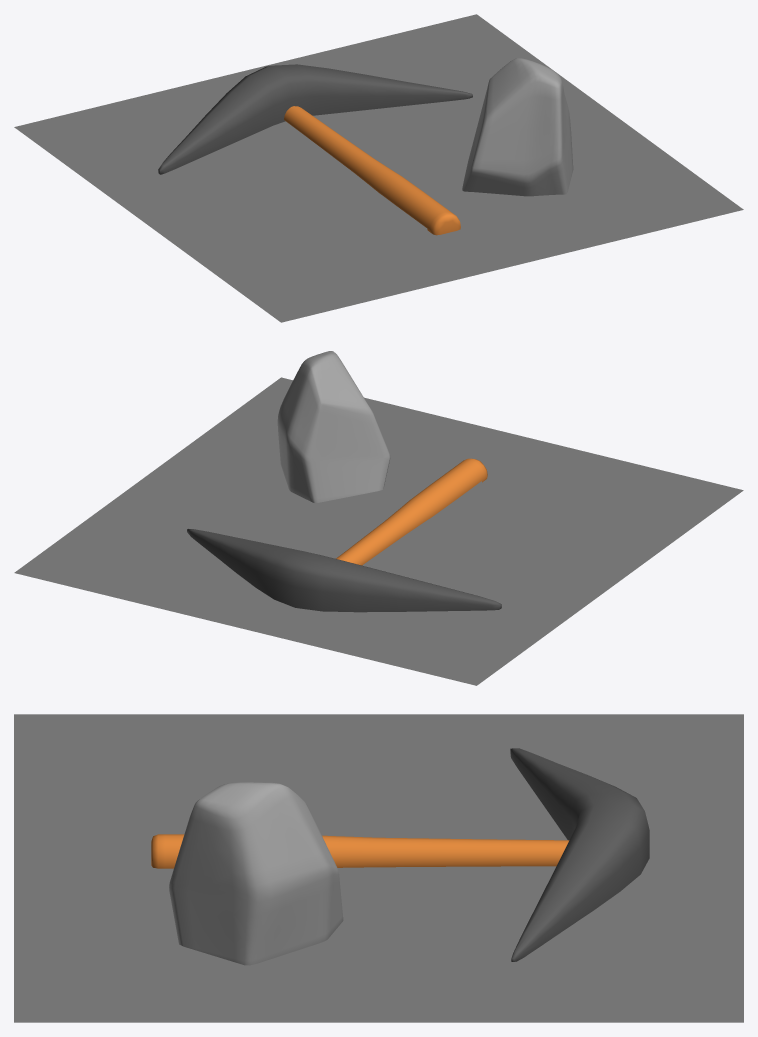
The model's file is mine_base.glb.
3 views of the same model, one above another, from view 1: azimuth 30°, elevation 25°; view 2: azimuth 150°, elevation 25°; view 3: azimuth 270°, elevation 25° (orthographic). The views are drawn at different scales.
Parts seen in each view (by area): view 1: Rectangle 2, Rock_01.001, pick, stick; view 2: Rectangle 2, Rock_01.001, pick, stick; view 3: Rectangle 2, Rock_01.001, pick, stick.
Part boxes in pixels (<box>): Rectangle 2: <box>14,14,743,322</box>; Rock_01.001: <box>462,58,573,196</box>; pick: <box>158,64,472,174</box>; stick: <box>284,106,460,235</box>; Rectangle 2: <box>14,377,743,685</box>; Rock_01.001: <box>277,351,390,503</box>; pick: <box>187,529,501,612</box>; stick: <box>336,458,487,565</box>; Rectangle 2: <box>14,714,743,1022</box>; Rock_01.001: <box>169,782,343,965</box>; pick: <box>510,748,649,961</box>; stick: <box>151,834,569,868</box>.
Bounding box in the file's own units: 4 × 1.22 × 4.
